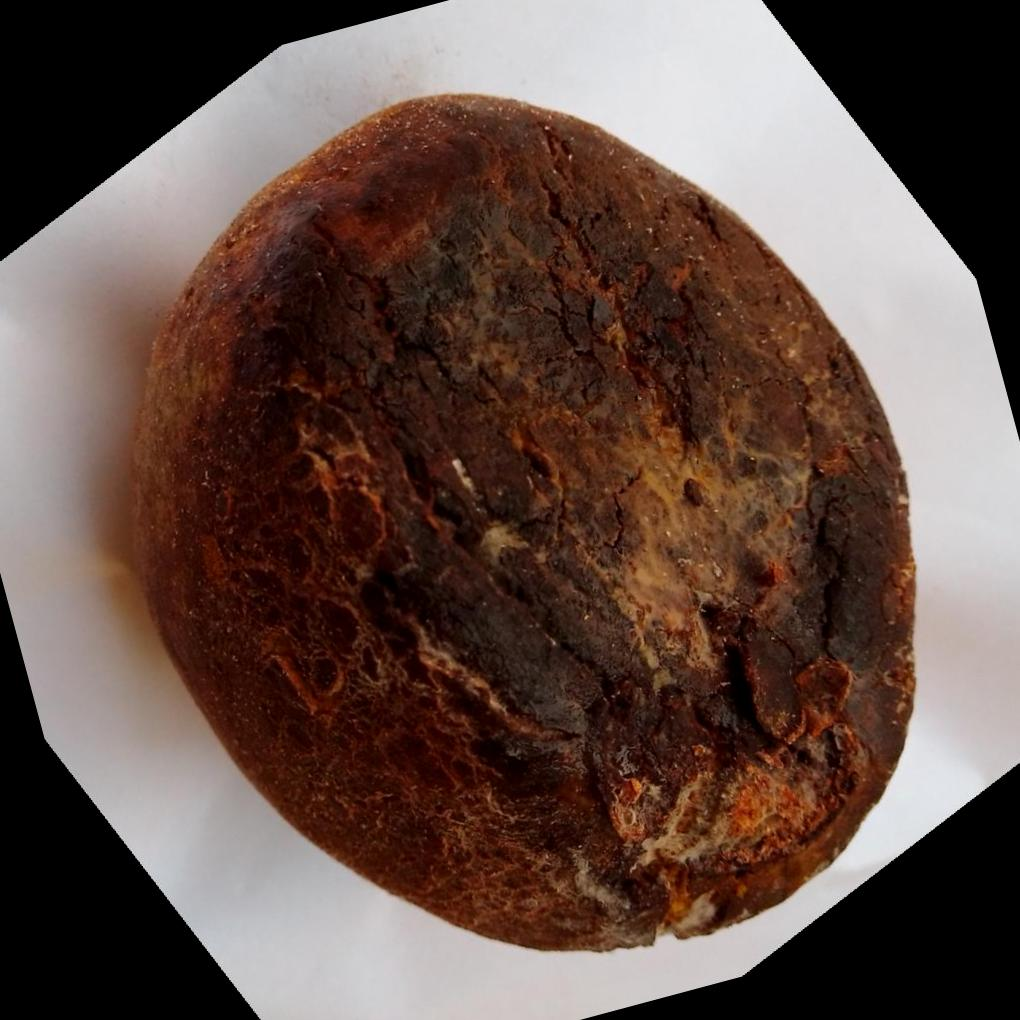FreshOrange: (124, 86, 917, 951)
